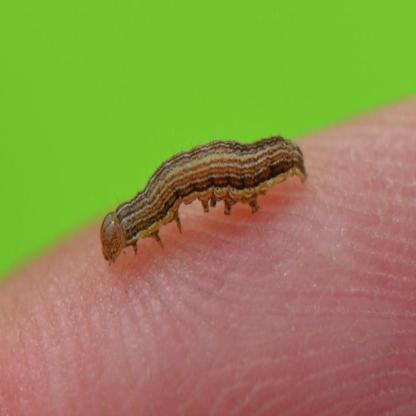armyworm: (94, 137, 312, 267)
